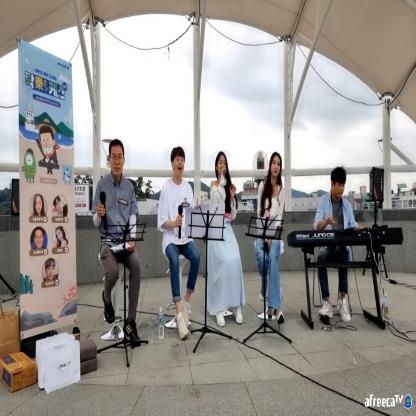streamer: (92, 139, 142, 344), (158, 146, 200, 340), (313, 166, 359, 323), (207, 151, 245, 327), (254, 151, 285, 324)
